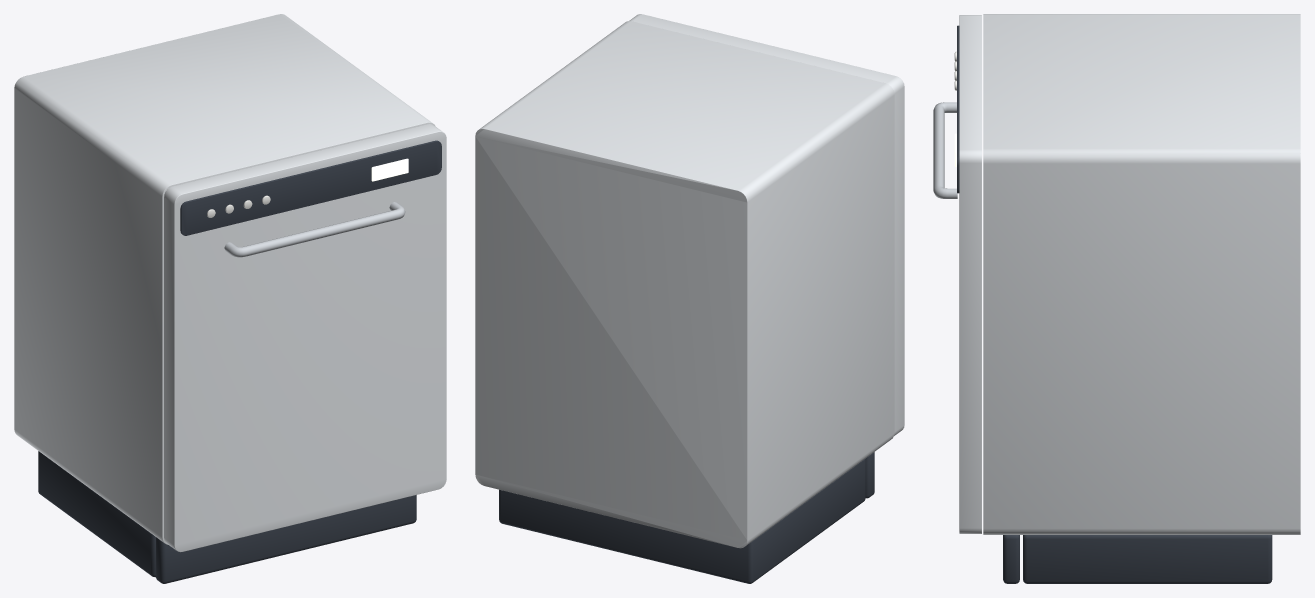
File: lava_loucas_branca.glb
The picture shows the model from 3 angles, left to right: view 1: azimuth 30°, elevation 25°; view 2: azimuth 150°, elevation 25°; view 3: azimuth 270°, elevation 25°; orthographic projection. The views are drawn at different scales.
Visible parts, largest first — view 1: lava_loucas_branca, porta; view 2: lava_loucas_branca, porta; view 3: lava_loucas_branca, porta.
Boxes of the visible parts, bbox=[...] form: lava_loucas_branca: bbox=[14, 14, 435, 583]; porta: bbox=[164, 124, 446, 552]; lava_loucas_branca: bbox=[475, 21, 894, 583]; porta: bbox=[629, 14, 904, 435]; lava_loucas_branca: bbox=[983, 14, 1300, 583]; porta: bbox=[933, 15, 981, 533].
Bounding box in the file's own units: 0.598 × 0.85 × 0.648.
2 materials, 1 textured.
